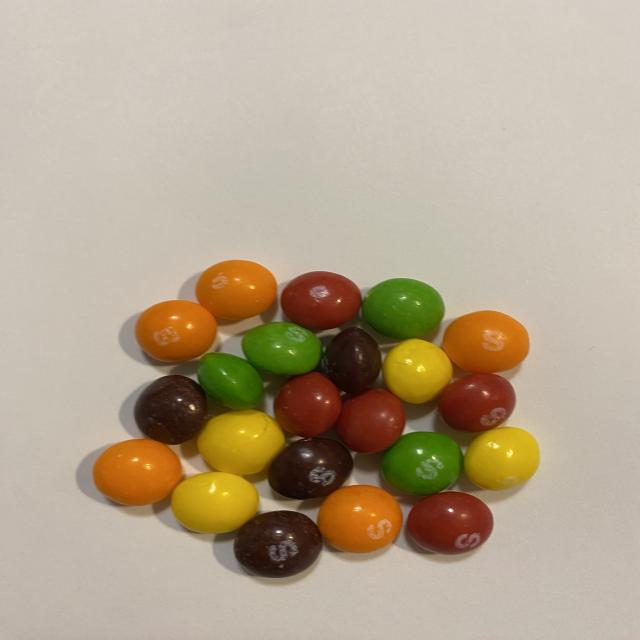smartie: (91, 439, 181, 506), (233, 511, 322, 578), (317, 486, 402, 554), (443, 311, 530, 373), (268, 438, 353, 500), (382, 432, 463, 496), (133, 375, 206, 445), (134, 300, 216, 362), (362, 278, 445, 339), (195, 260, 276, 319), (241, 322, 322, 375), (324, 327, 381, 396), (197, 353, 262, 410)
